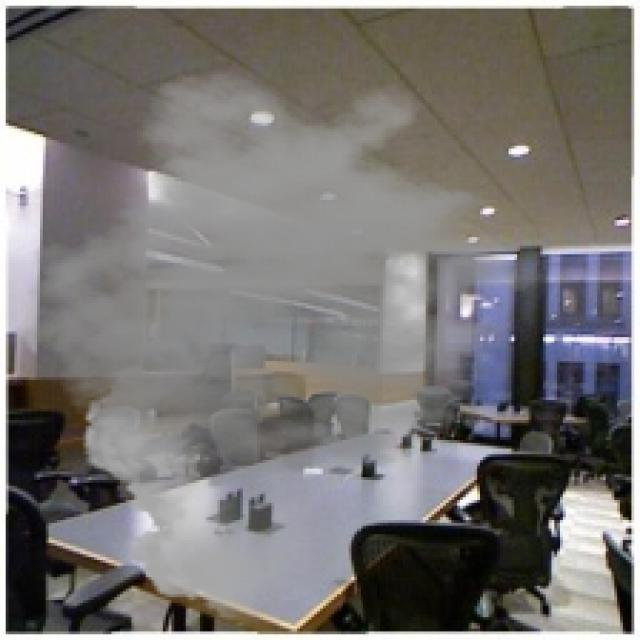smoke: (12, 69, 574, 628)
